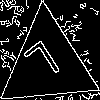L: (22, 38, 67, 92)
